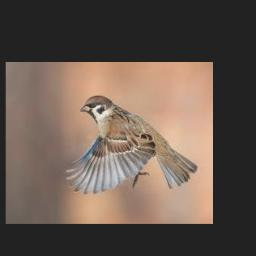Sparrow: (66, 95, 198, 194)
